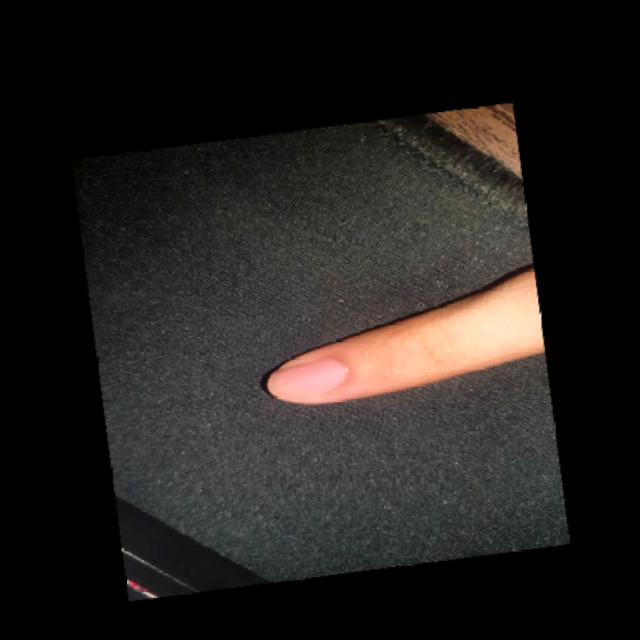Nail: (268, 357, 346, 399)
